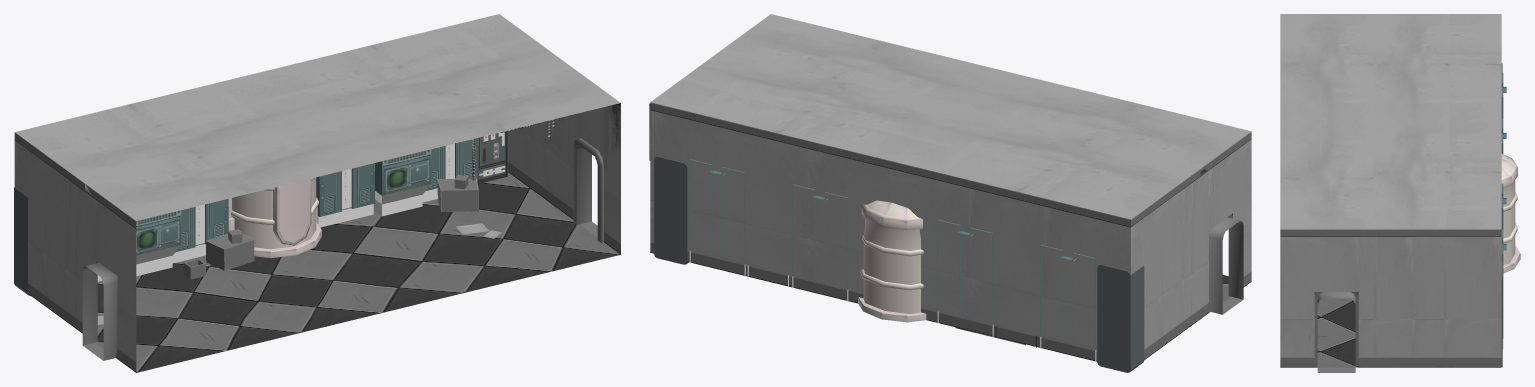
Rendered from MSH_QuestRobCo_L2_R2_optimized.fbx.
3 renders of one model, left to right at view 1: azimuth 30°, elevation 25°; view 2: azimuth 150°, elevation 25°; view 3: azimuth 270°, elevation 25°, orthographic. The views are drawn at different scales.
Parts seen in each view (by area): view 1: lightmap5, lightmap1, lightmap6, lightmap0, MSH_QuestRobCo_L2_R2_ConsoleLights_01_NB; view 2: lightmap5, lightmap1, lightmap6, lightmap0; view 3: lightmap1, lightmap5, lightmap6, lightmap0.
Boxes of the visible parts, <box> form: lightmap5: <box>14,103,620,372</box>; lightmap1: <box>15,14,620,324</box>; lightmap6: <box>14,119,554,295</box>; lightmap0: <box>82,103,620,360</box>; MSH_QuestRobCo_L2_R2_ConsoleLights_01_NB: <box>195,132,505,244</box>; lightmap5: <box>650,102,1251,361</box>; lightmap1: <box>650,14,1250,219</box>; lightmap6: <box>654,156,1144,372</box>; lightmap0: <box>649,103,1243,345</box>; lightmap1: <box>1280,14,1501,229</box>; lightmap5: <box>1280,229,1501,367</box>; lightmap6: <box>1501,63,1520,367</box>; lightmap0: <box>1314,292,1358,372</box>.
Bounding box in the file's own units: 20.6 × 5.99 × 9.25.
Materials: 4 (4 with a texture image).
